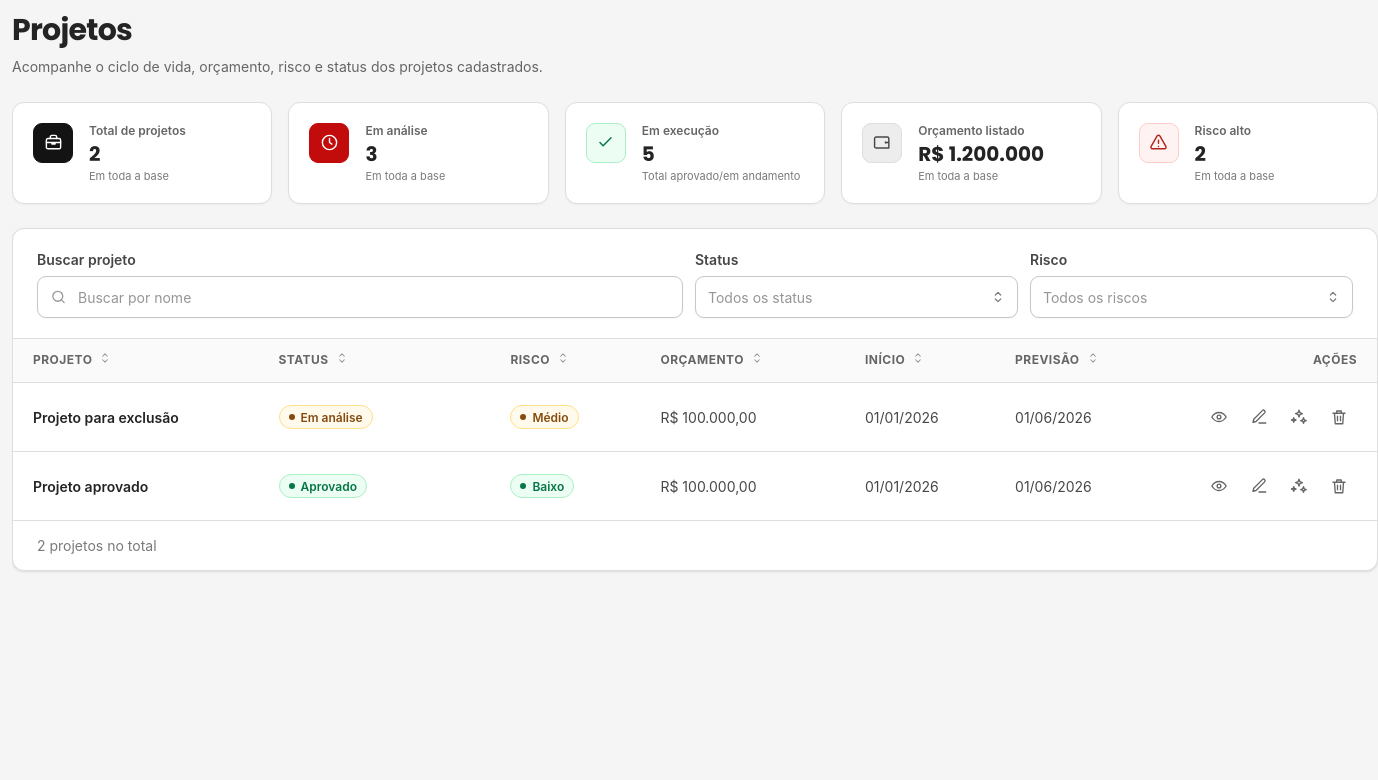
Test: ProjectListPage › sends status and risk to the API instead of filtering the current page
Type "aprov" into the dropdown labelled "Status" at (856, 297), box left=695, top=276, right=1018, bottom=318
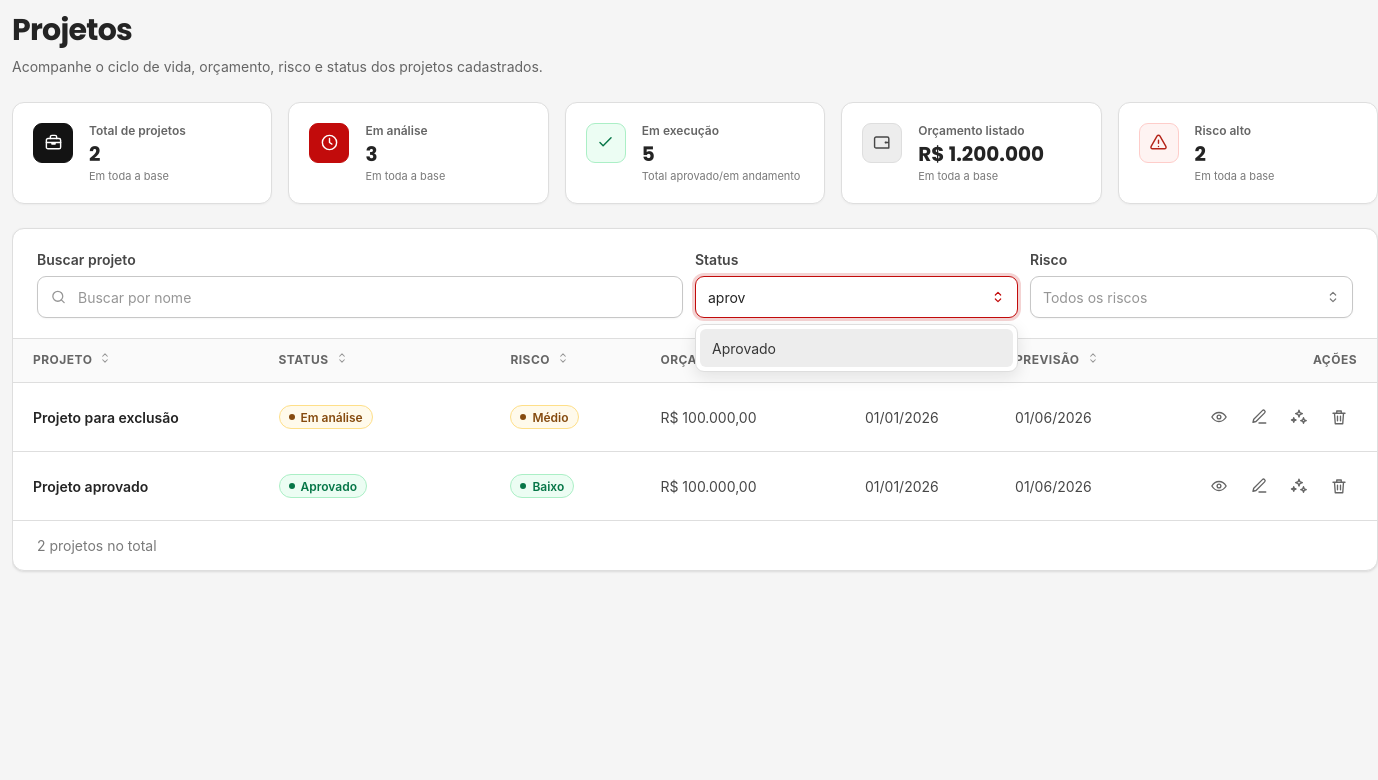
Click the option "Aprovado" at (744, 348), box left=700, top=329, right=1013, bottom=367
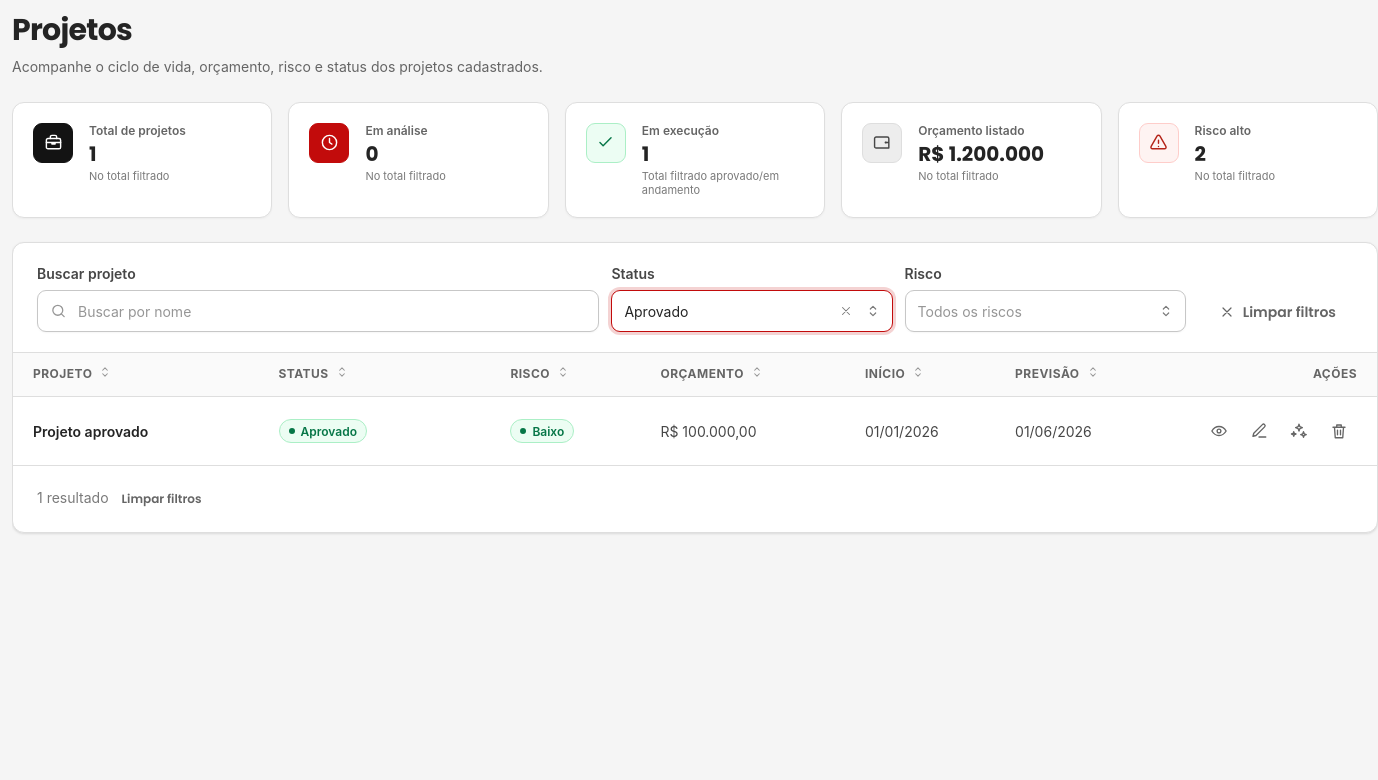
Expected: the link "Projeto aprovado" is shown, left=33, top=423, right=148, bottom=440
Click the button named "Limpar filtro de status" at (846, 311), box left=833, top=298, right=859, bottom=324
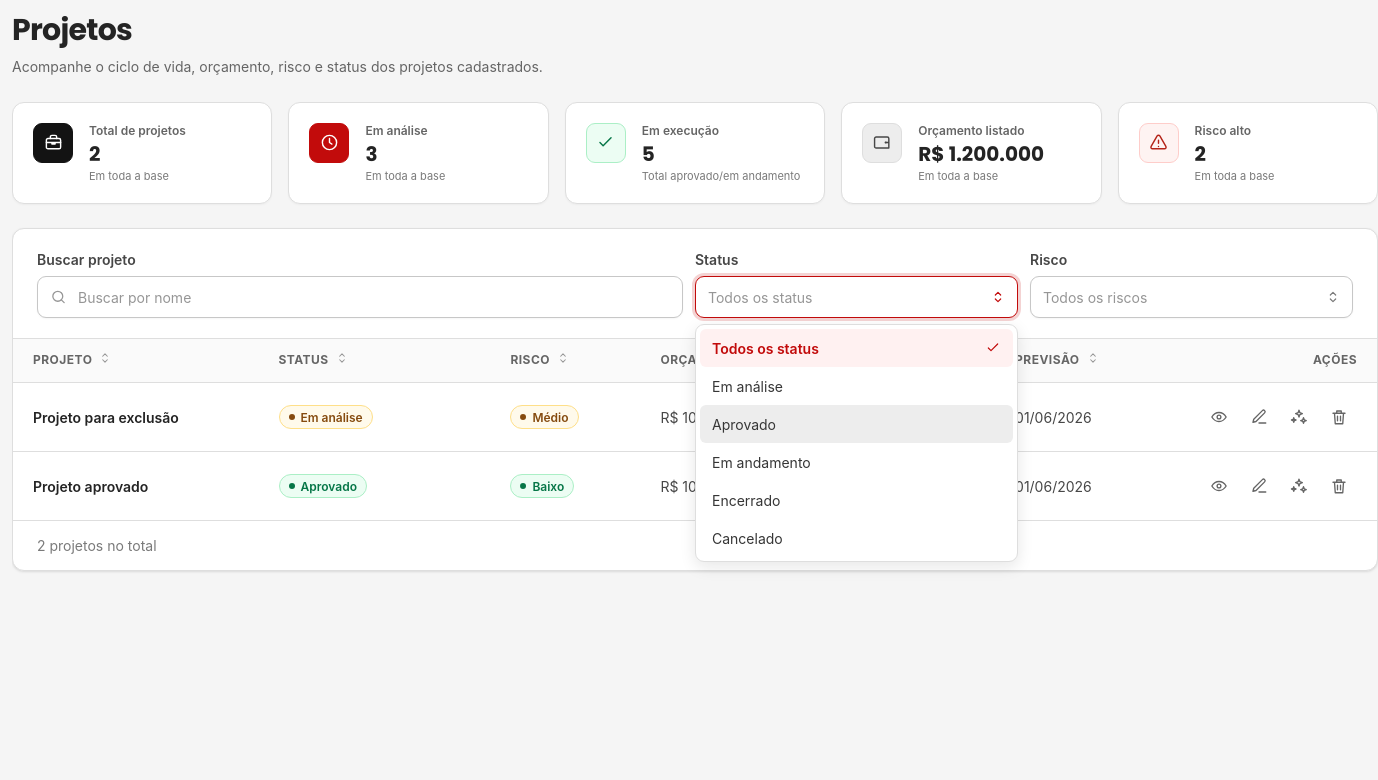
Type "medio" into the dropdown labelled "Risco" at (1192, 297), box left=1030, top=276, right=1353, bottom=318
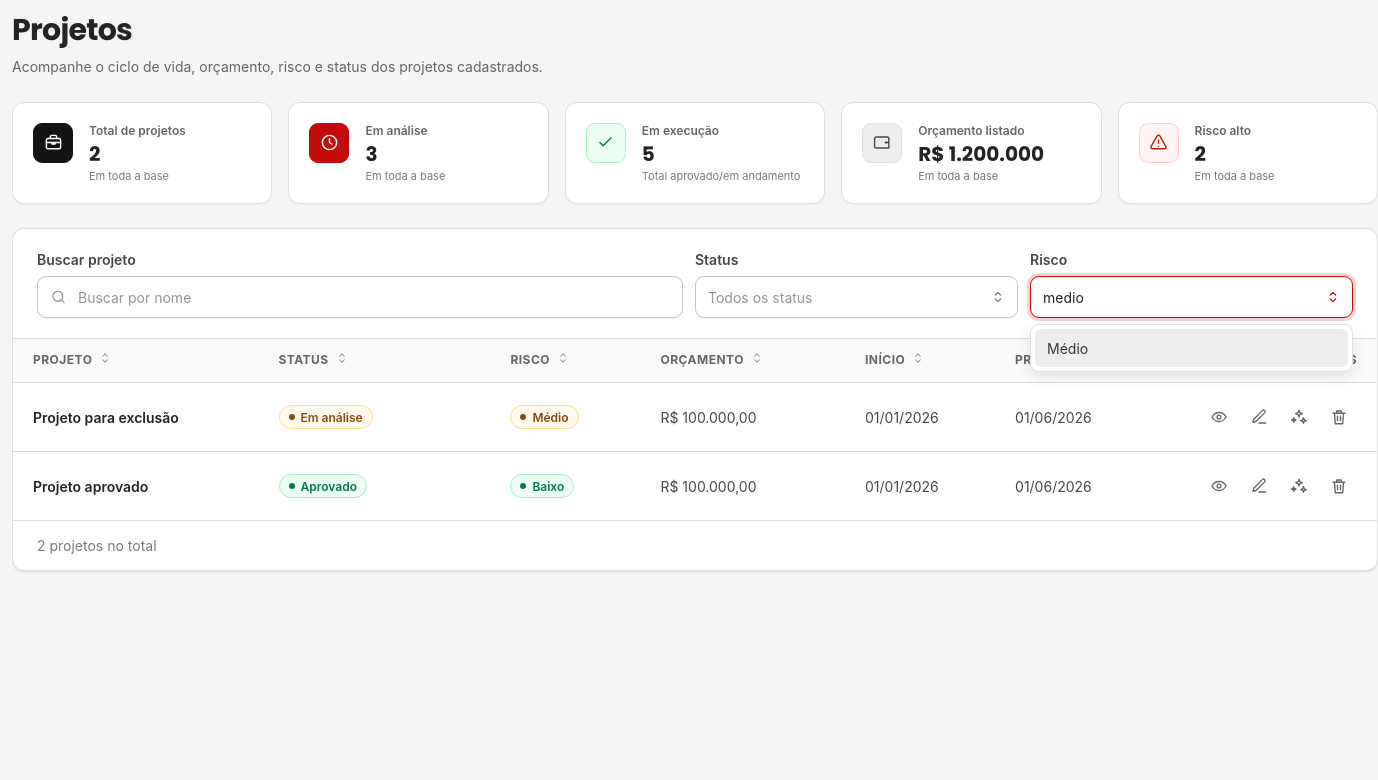
Press Enter
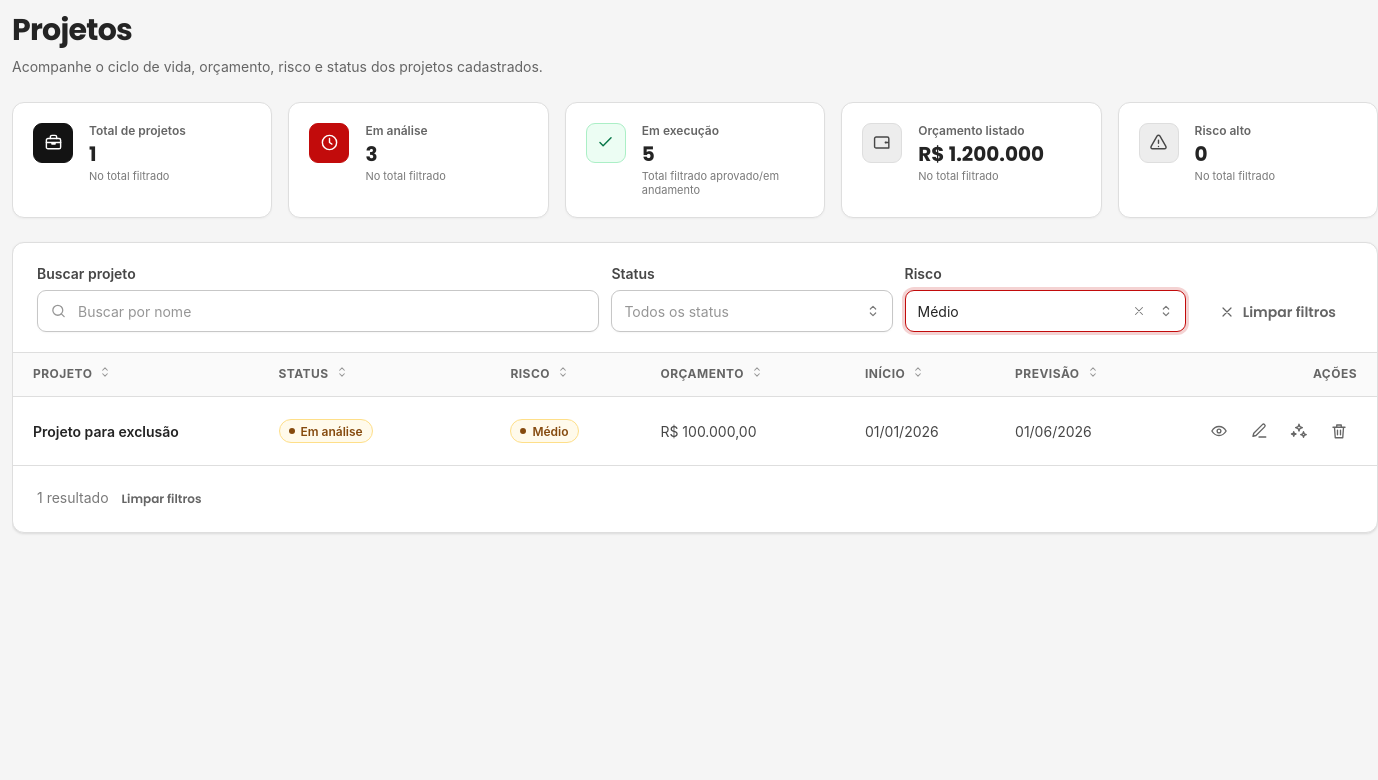
Result: the link "Projeto para exclusão" is shown at left=33, top=423, right=179, bottom=440
Result: the link "Projeto aprovado" is gone
